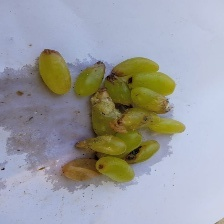grapes: (45, 32, 198, 224)
